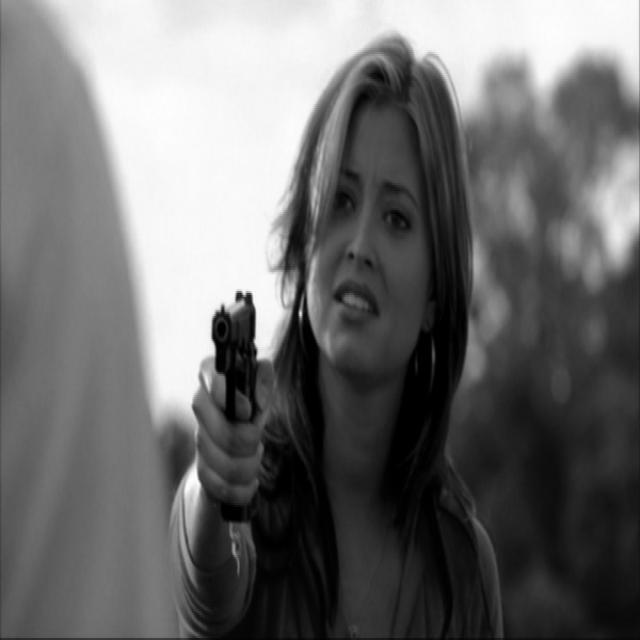weapons: (192, 266, 274, 492)
